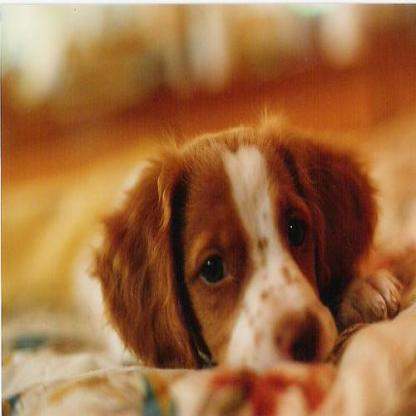Brittany_spaniel: (87, 102, 401, 376)
